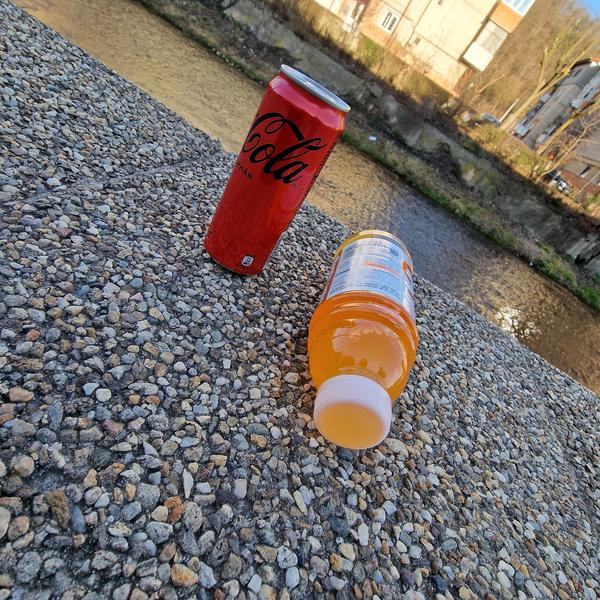can: (182, 62, 357, 285)
plastic_bottle: (278, 221, 450, 463)
